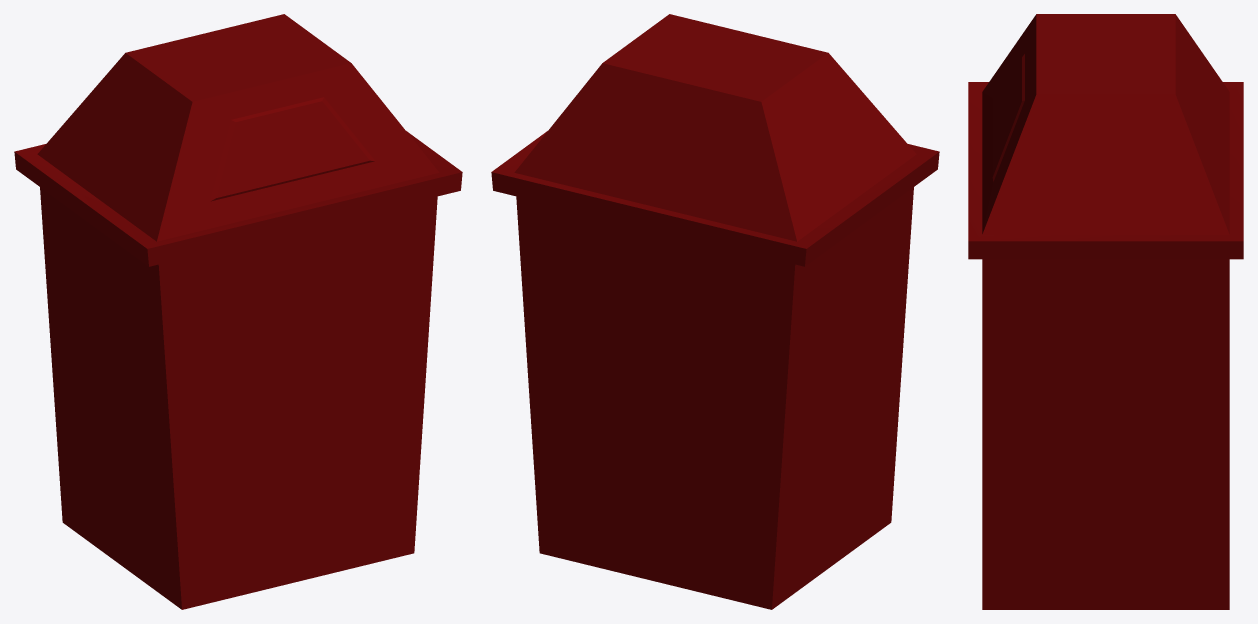
Rendered from BASURAHAN(RED).fbx.
3 views of the same model, side by side, from view 1: azimuth 30°, elevation 25°; view 2: azimuth 150°, elevation 25°; view 3: azimuth 270°, elevation 25° (orthographic). The views are drawn at different scales.
Visible parts, largest first — view 1: pCube33; view 2: pCube33; view 3: pCube33.
Part boxes in pixels (bbox=[...]): pCube33: bbox=[14, 14, 462, 609]; pCube33: bbox=[491, 14, 939, 609]; pCube33: bbox=[968, 14, 1243, 609].
Size of the model in its own units: 1.52 by 2.22 by 1.11.
